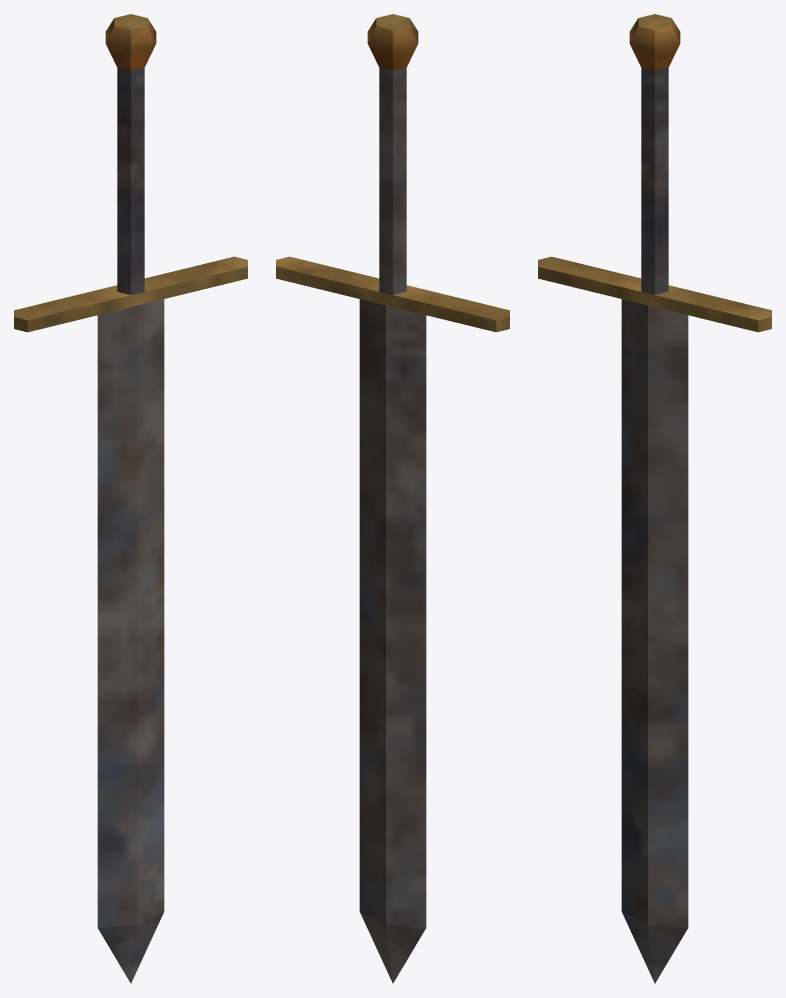
The model's file is SM_BlacksmithSword.fbx.
3 views of the same model, side by side, from view 1: azimuth 30°, elevation 25°; view 2: azimuth 150°, elevation 25°; view 3: azimuth 330°, elevation 25° (orthographic).
Visible parts, largest first — view 1: SM_BlacksmithSword; view 2: SM_BlacksmithSword; view 3: SM_BlacksmithSword.
Boxes of the visible parts, bbox=[...] form: SM_BlacksmithSword: bbox=[14, 14, 247, 983]; SM_BlacksmithSword: bbox=[276, 14, 509, 983]; SM_BlacksmithSword: bbox=[538, 14, 771, 983].
Bounding box in the file's own units: 112 × 439 × 20.86.
